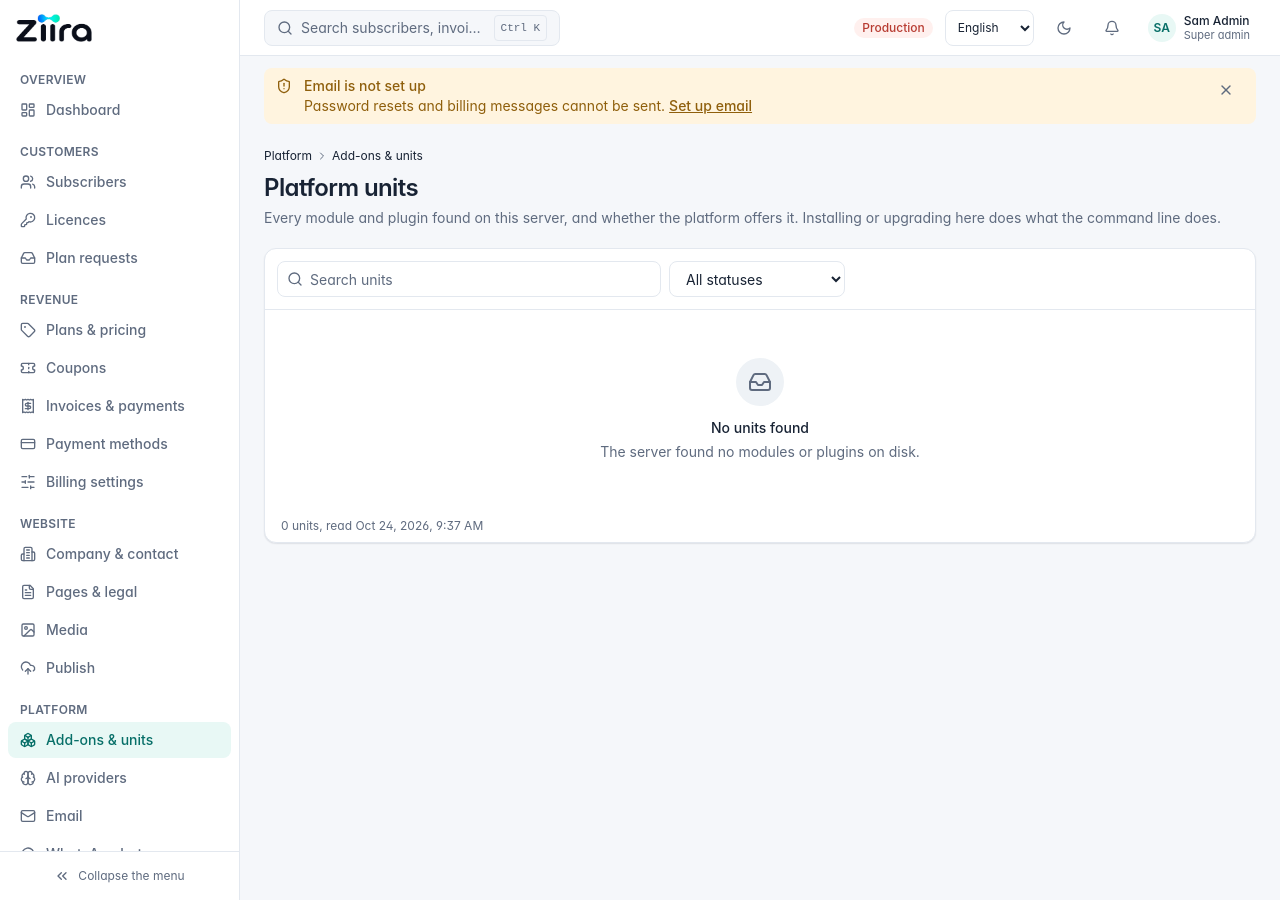
Test case: the frame › shows the environment, the account menu and a banner for risky settings that can be hidden
expect the text "Production" is shown: met, box [854,18,933,38]
expect the text "Email is not set up" is shown: met, box [304,77,426,94]
Click the button named "Hide for now": (1226, 90) [1208,72,1244,108]
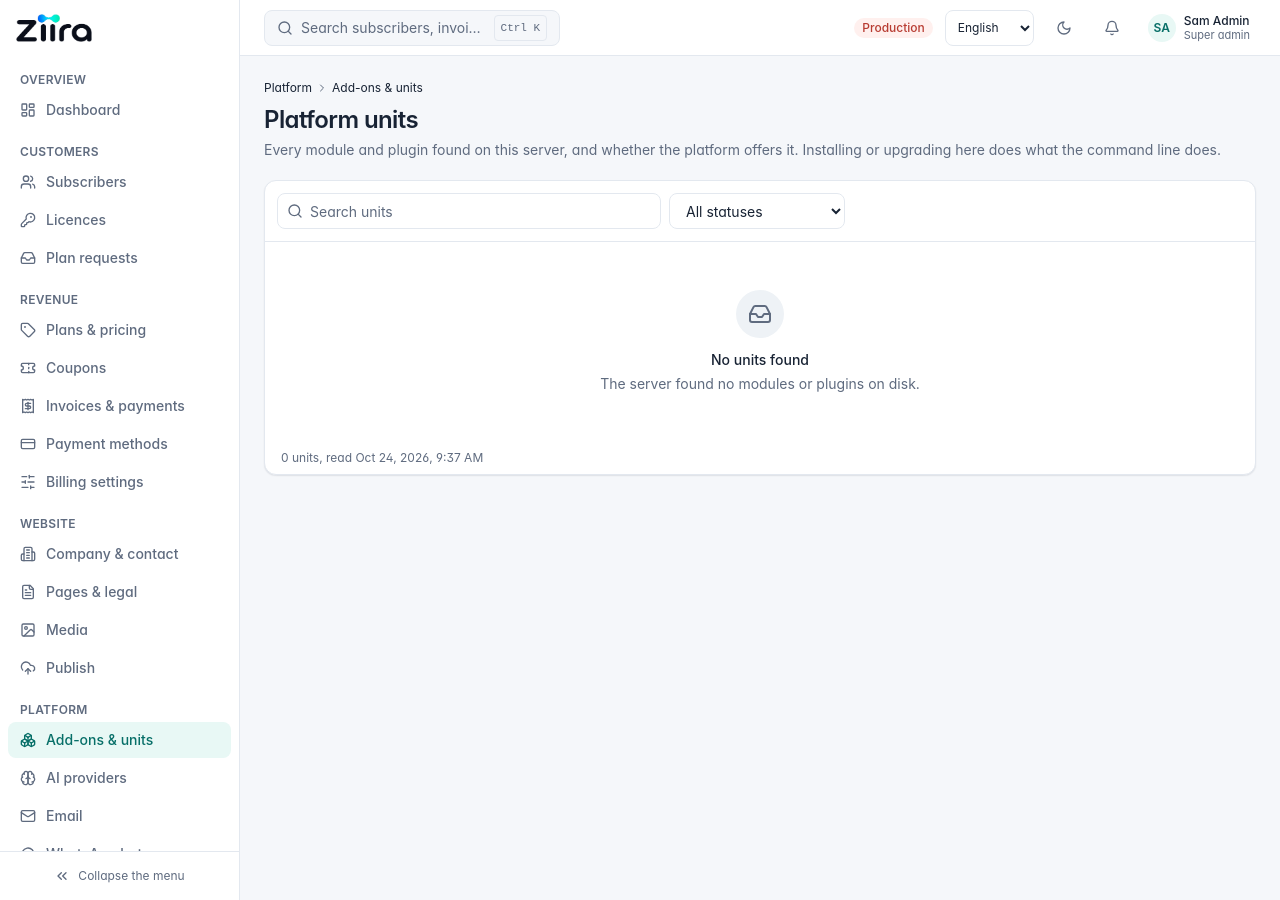
expect the text "Email is not set up" is gone: met
Click the button with aria-label "Account menu": (1199, 28) [1142,9,1256,46]
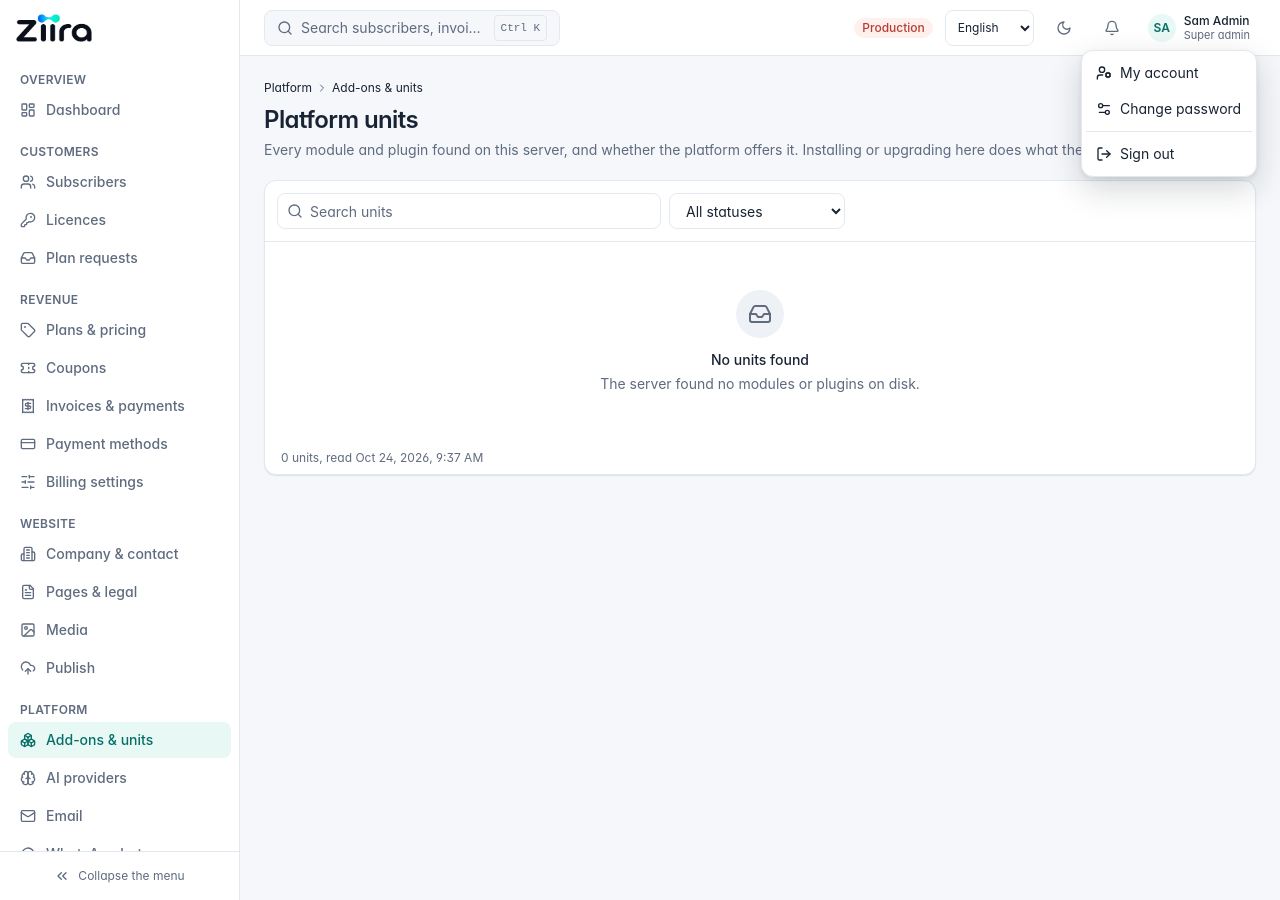
expect the menu item "My account" is shown: met, box [1086,55,1252,91]
expect the menu item "Change password" is shown: met, box [1086,91,1252,127]
expect the menu item "Sign out" is shown: met, box [1086,136,1252,172]
